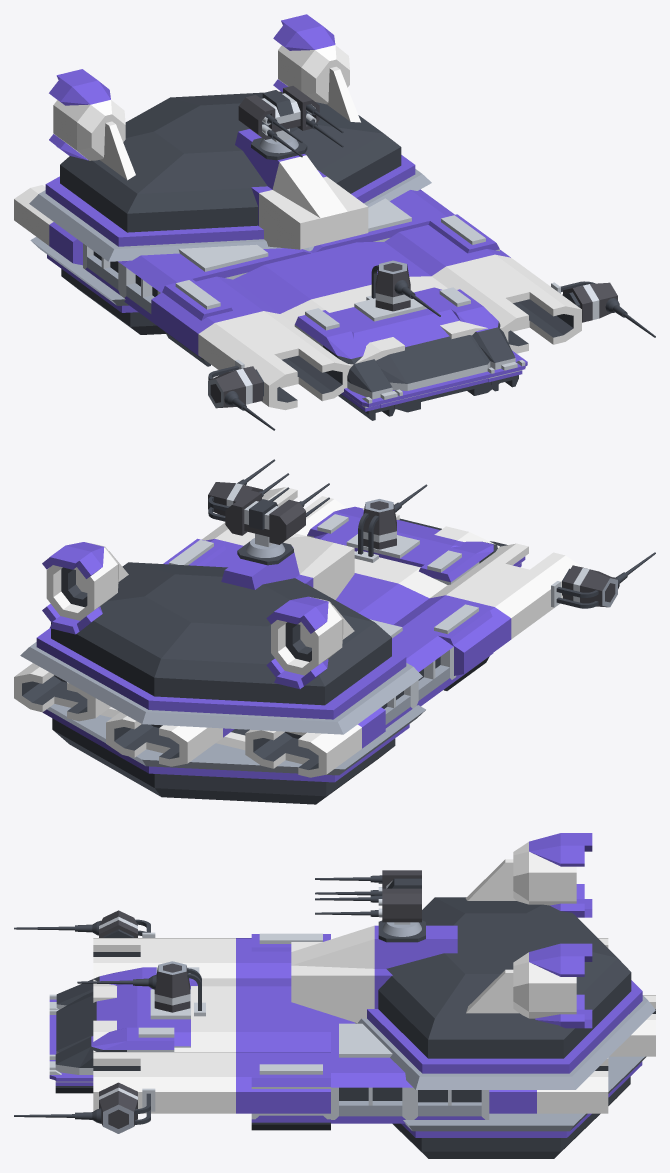
File: croiseur_moyen_2.glb
The picture shows the model from 3 angles, top to bottom: view 1: azimuth 30°, elevation 25°; view 2: azimuth 150°, elevation 25°; view 3: azimuth 270°, elevation 25°; orthographic projection.
Parts seen in each view (by area): view 1: mergedBlocks(Clone); view 2: mergedBlocks(Clone); view 3: mergedBlocks(Clone).
Part boxes in pixels (x1,y1,x2,y2): mergedBlocks(Clone): (14,14,655,430); mergedBlocks(Clone): (14,459,655,804); mergedBlocks(Clone): (14,833,655,1158).
Size of the model in its own units: 5.8 by 3.22 by 8.1.
Materials: 1 (1 with a texture image).
